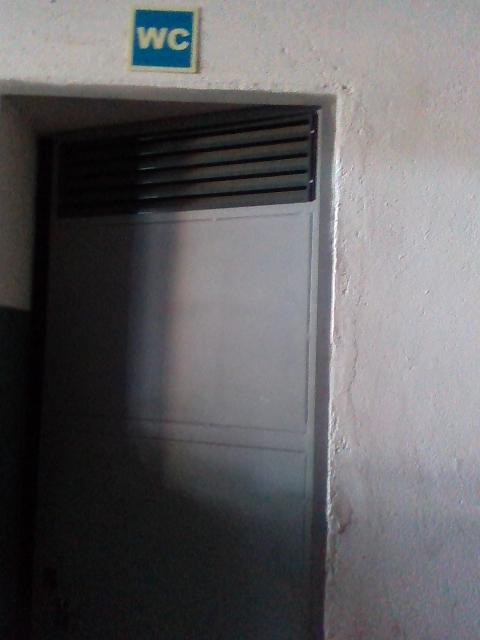door: (0, 75, 336, 639)
